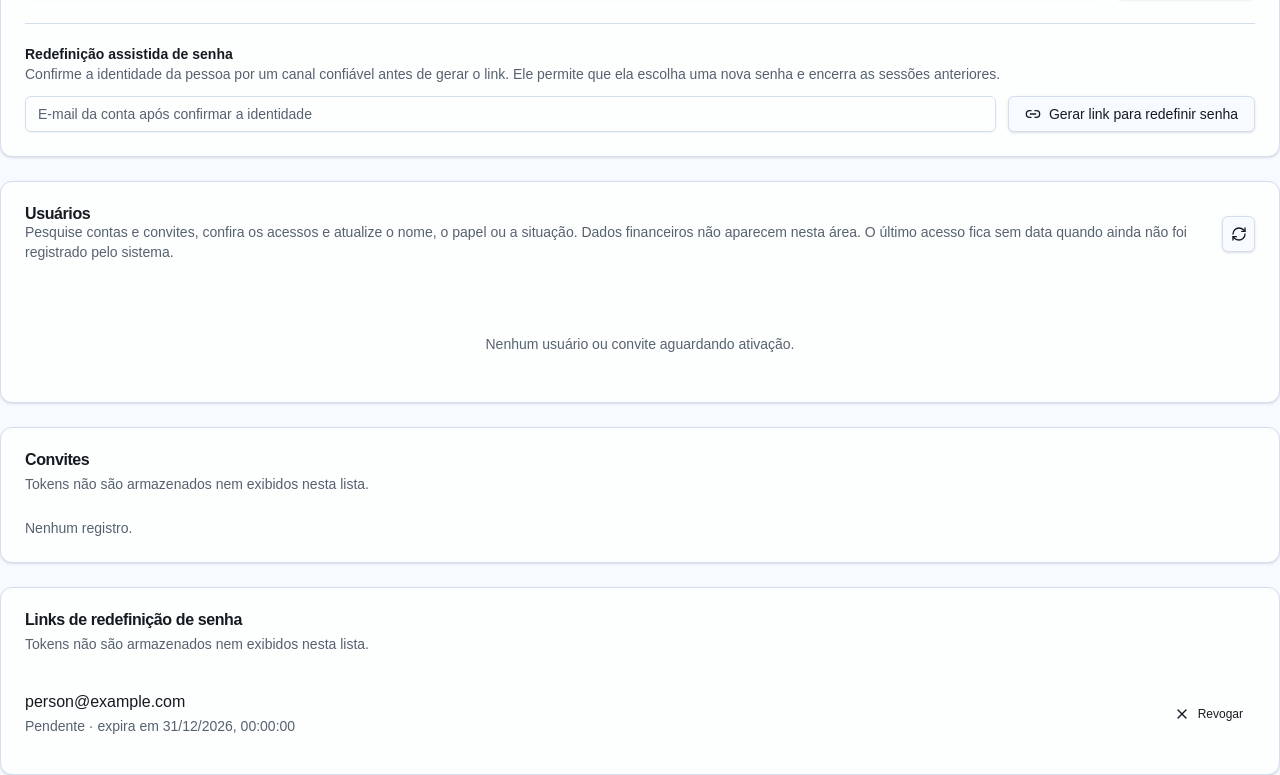
Test: AdminUsersClient remaining action states › revokes a pending assisted reset and refreshes the list
The image size is (1280, 775).
(page scrolled)
Click the button "Revogar": (1208,714) [1162, 698, 1255, 730]
(page scrolled)
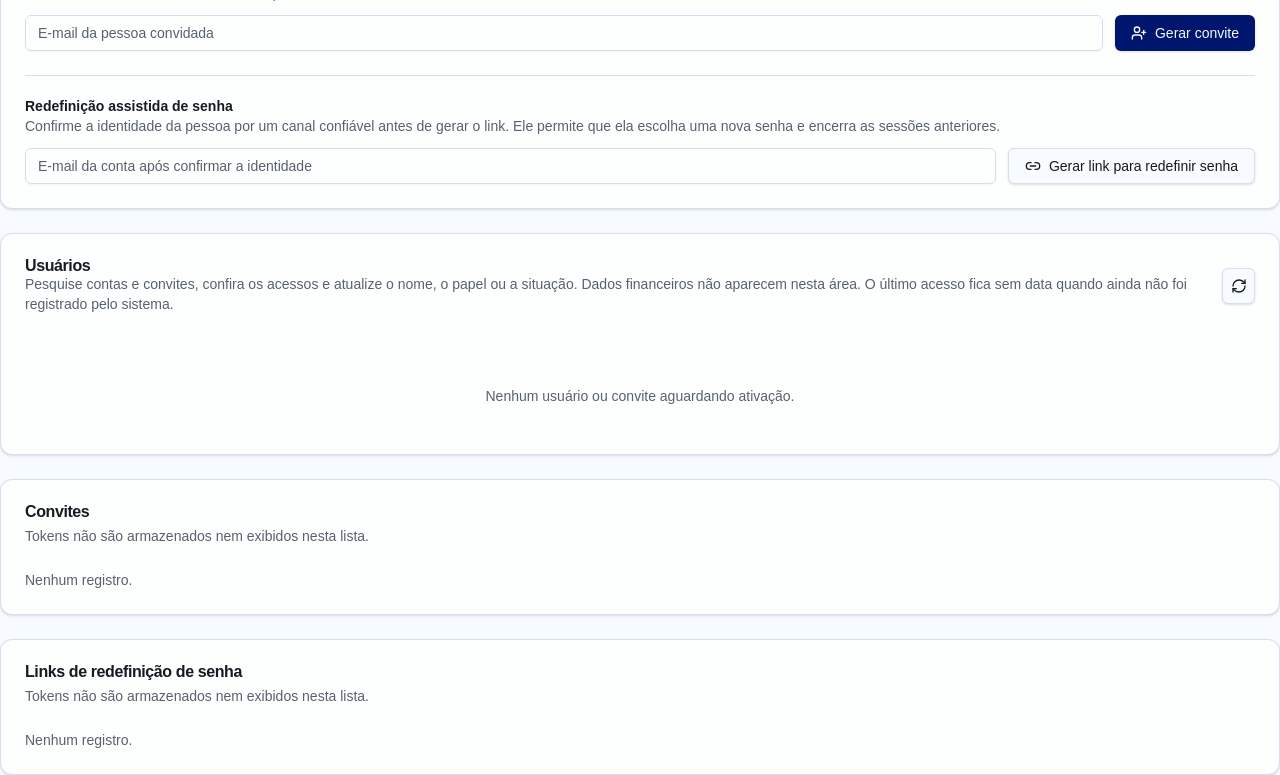
Expected: the text "Nenhum registro." is shown 2 times, [25, 572, 132, 588]; [25, 732, 132, 748]
